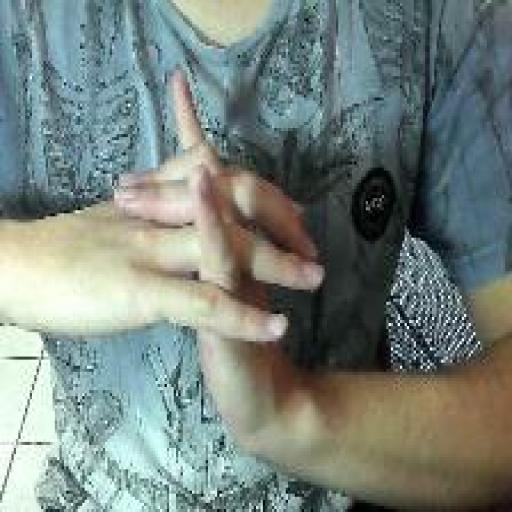Ushi -ox-: (109, 64, 328, 463)
